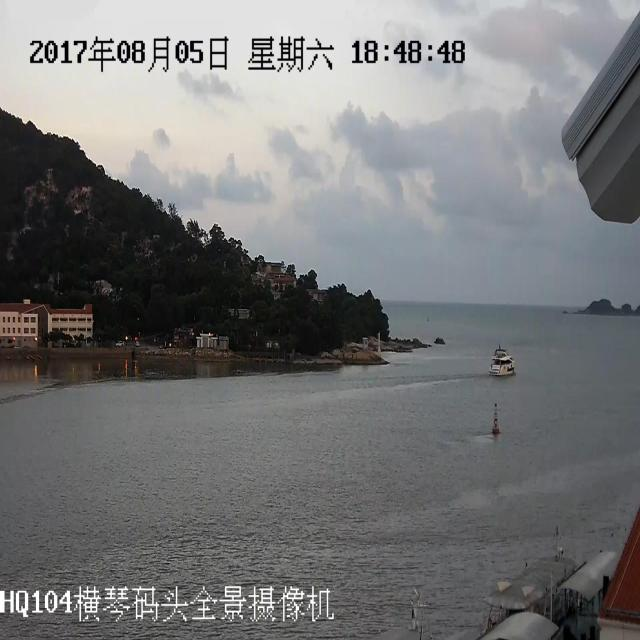buoy: (480, 396, 506, 449)
passenger ship: (491, 337, 516, 383)
reef: (568, 284, 636, 334)
